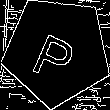P_NE: (30, 21, 83, 82)
